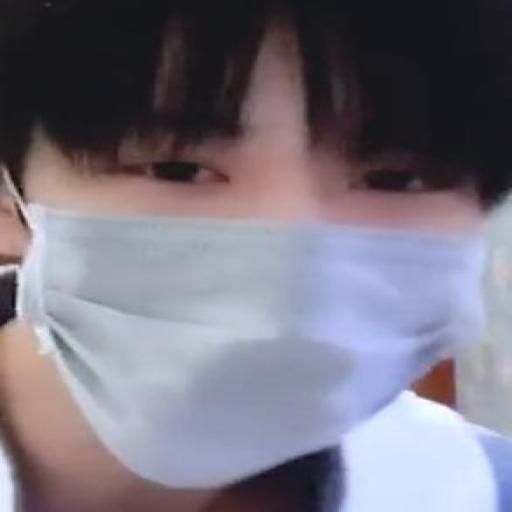mask: (0, 129, 512, 512)
